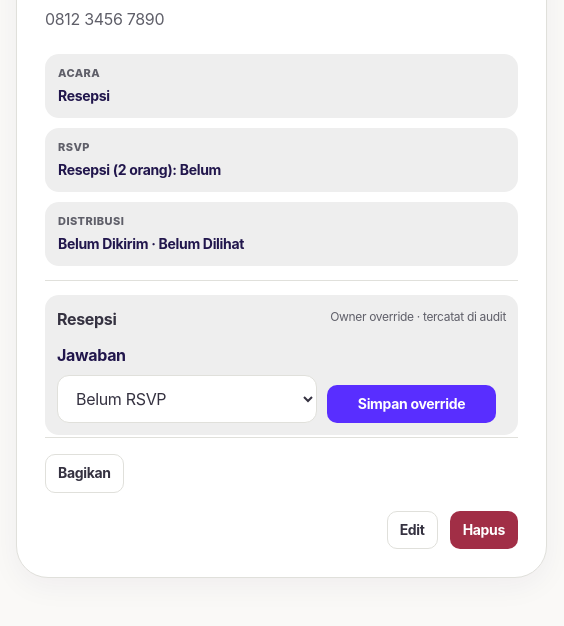
GuestsManager › copies the issued personalized link and reports success
(page scrolled)
Click the button "Bagikan" at point(84, 474), box [45,454,124,493]
(page scrolled)
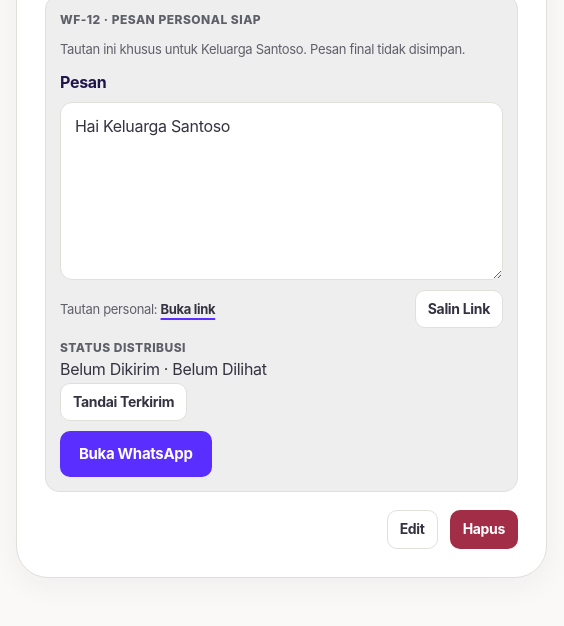
Result: the button "Salin Link" is shown
Click the button "Salin Link" at point(459, 309), box [415,290,503,328]
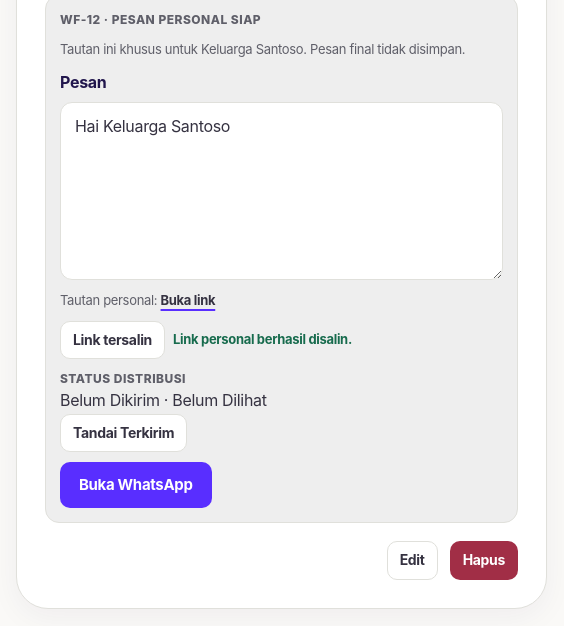
Result: the text "Link personal berhasil disalin." is shown at [173,329,352,350]
